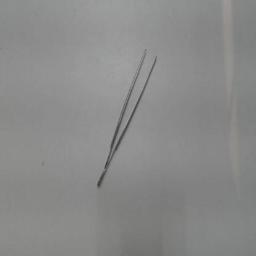Gillies Toothed Dissector: (95, 46, 163, 192)
